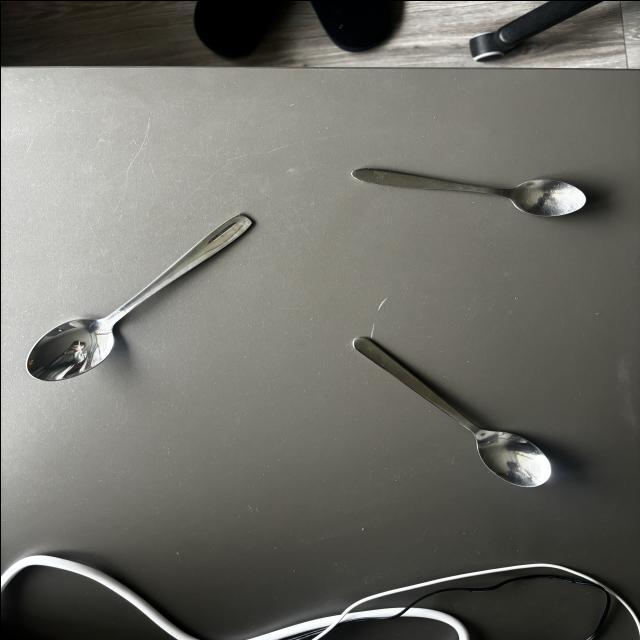spoon: (26, 210, 257, 381), (352, 334, 553, 486), (350, 164, 589, 217)
